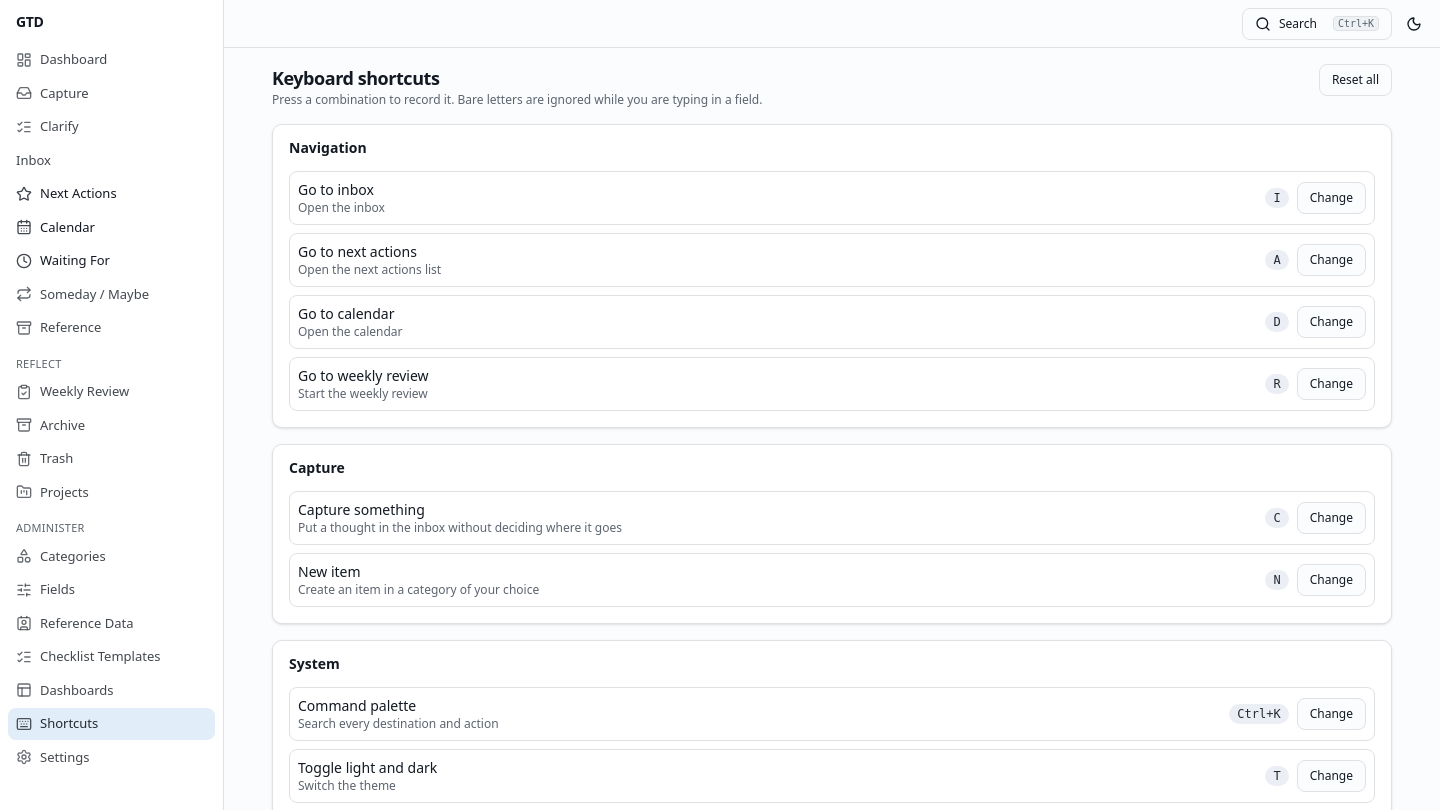
it: the shortcut settings screen › offers a way out of recording without saving
Click the button "Change" in the row of "Open the inbox" at (1331, 198), box [1297, 182, 1366, 214]
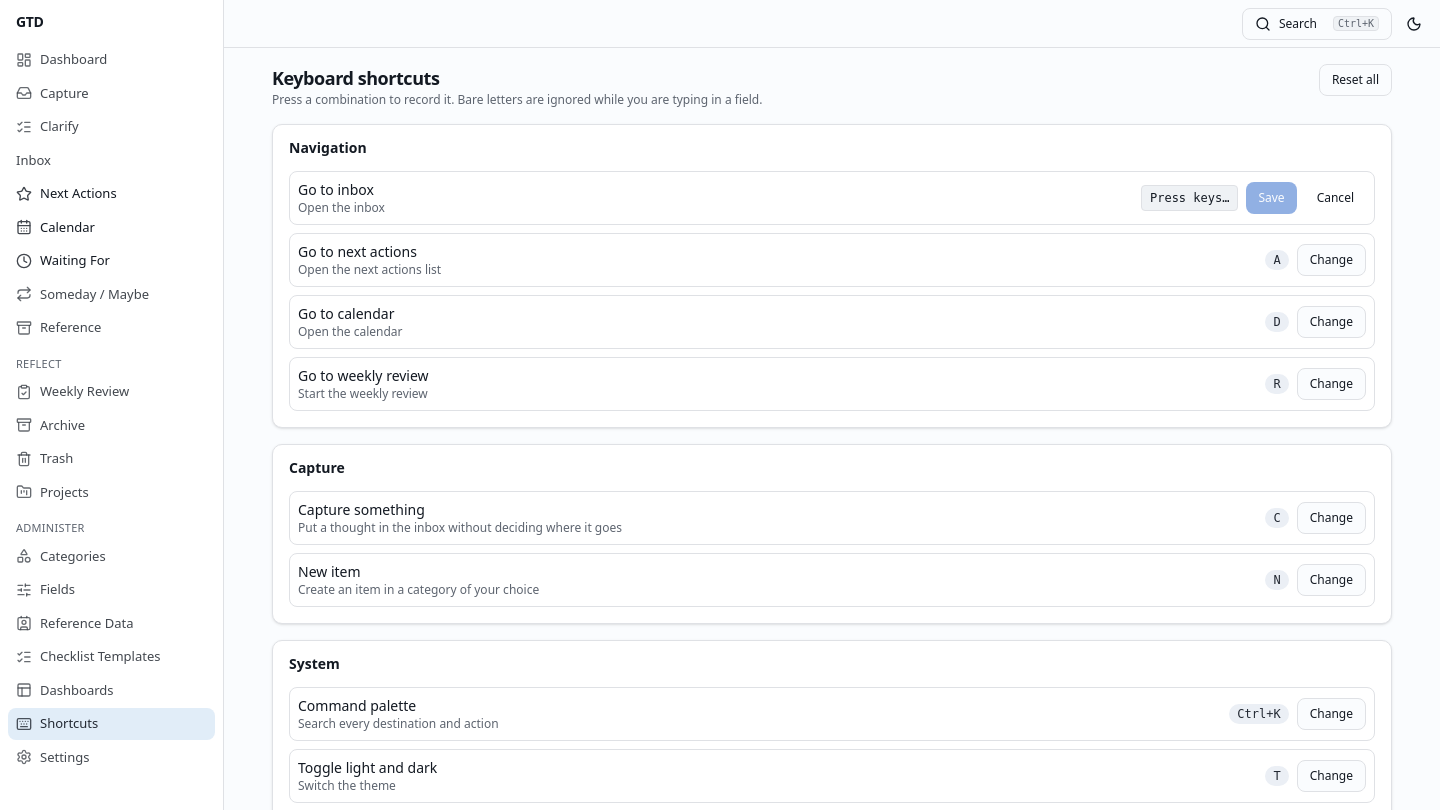
Now the text "Press keys…" is shown, box [1141, 185, 1238, 211]
Press Escape
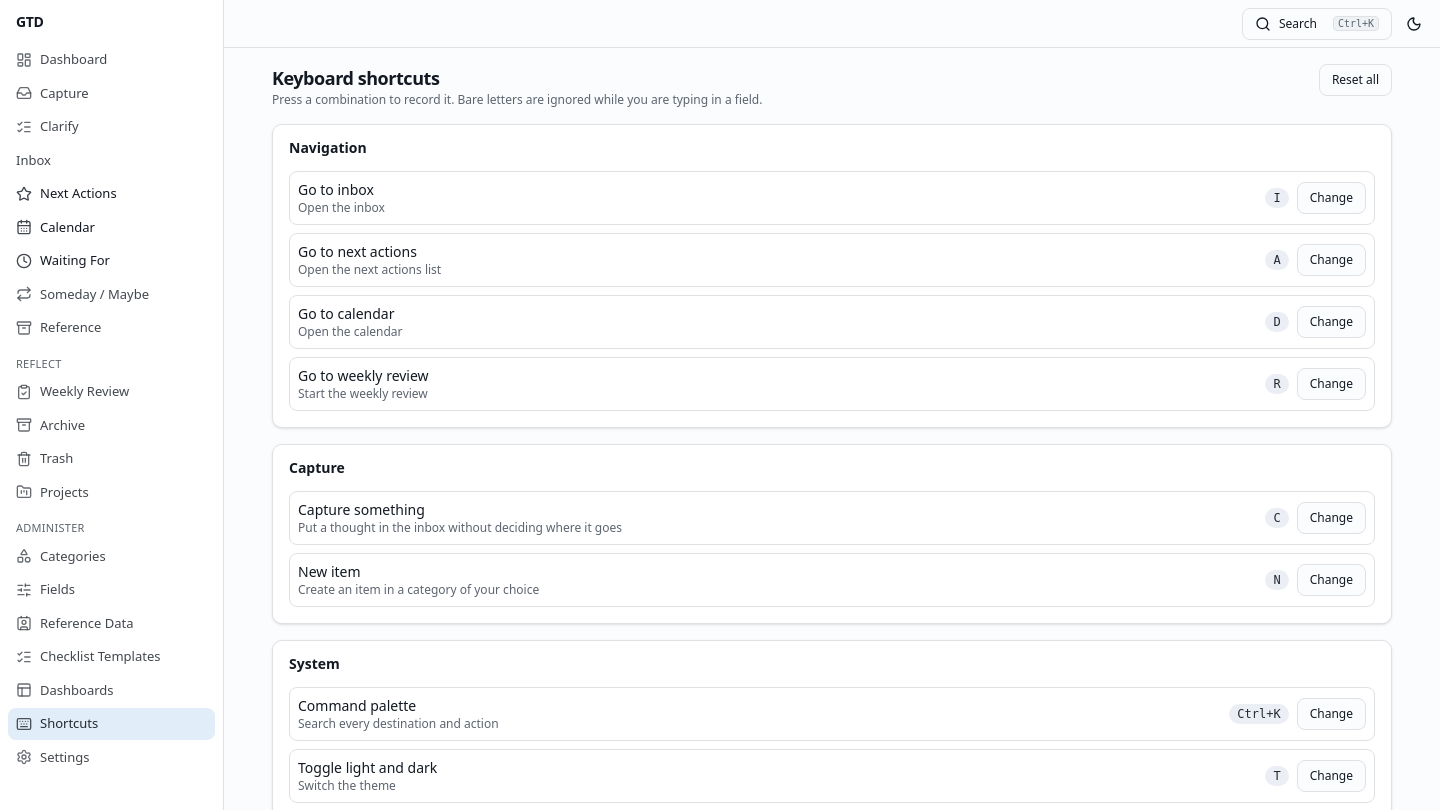
Now the text "Press keys…" is gone
